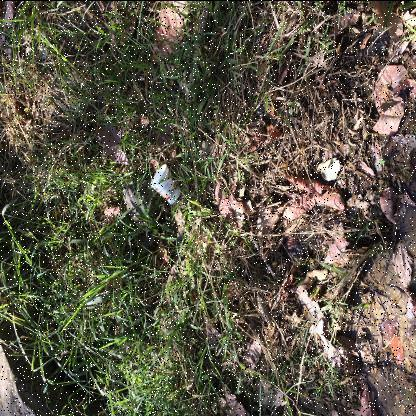cardboard: (151, 164, 182, 204)
